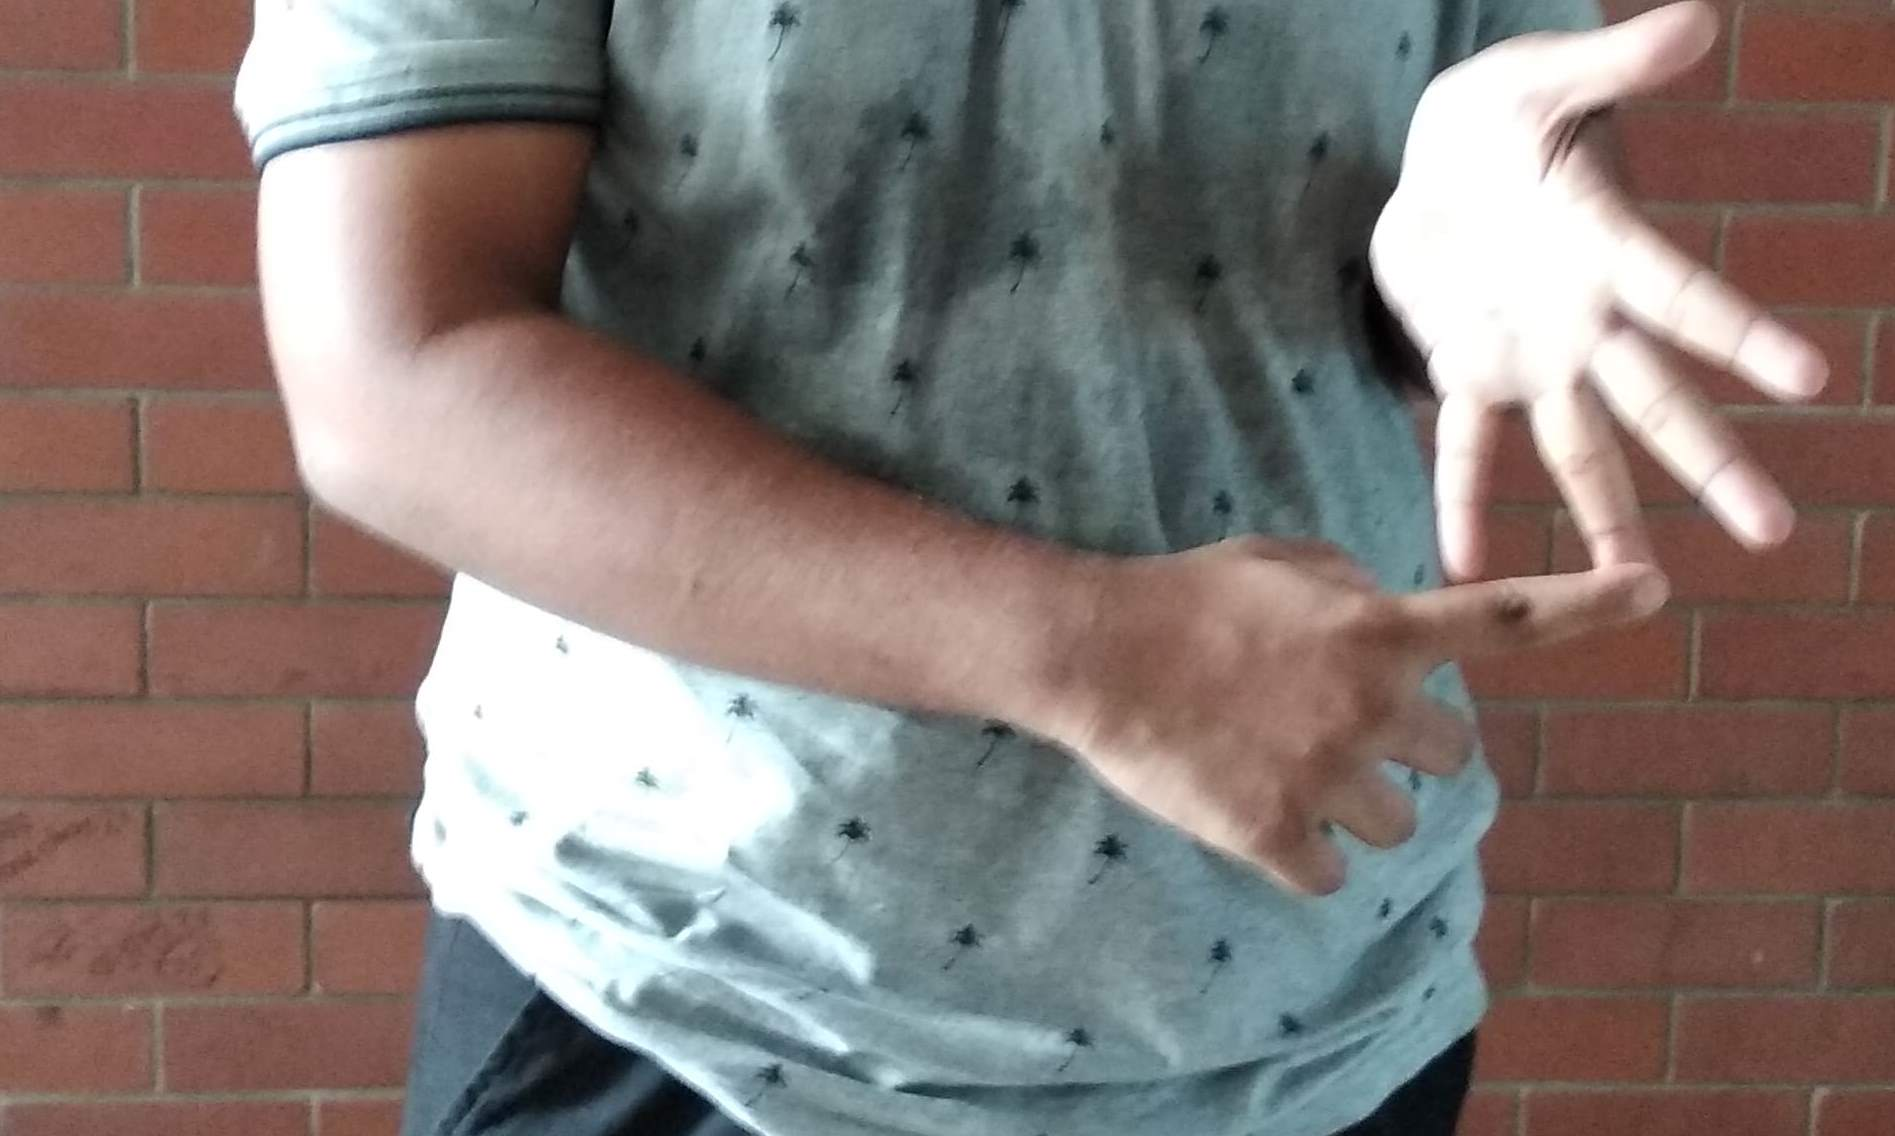e: (1157, 81, 1831, 893)
